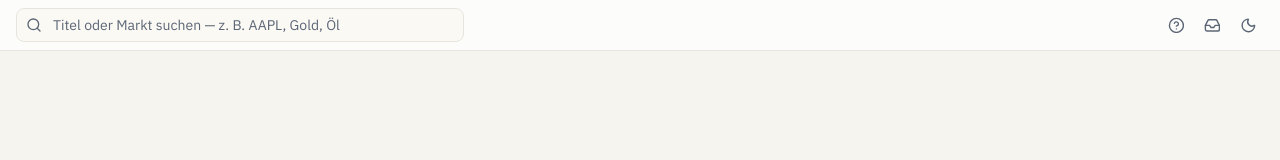
Scenario: Topbar › findet über einen Synonym-Begriff: 'gold' schlägt eine Gold-Hülle vor
Type "gold" into the dropdown labelled "Titel oder Markt suchen — z. B. AAPL, Gold, Öl" at (240, 25), box [16, 8, 464, 42]
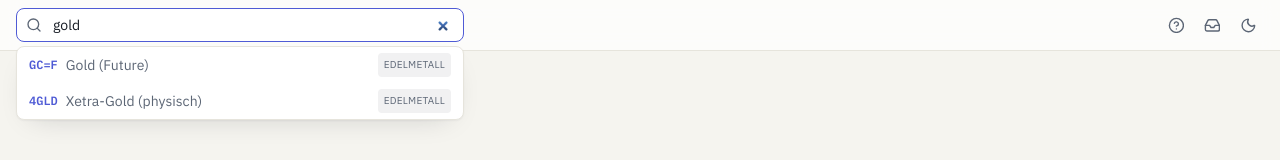
Now the option "GC=F Gold (Future) Edelmetall" is shown, box [17, 47, 463, 83]
